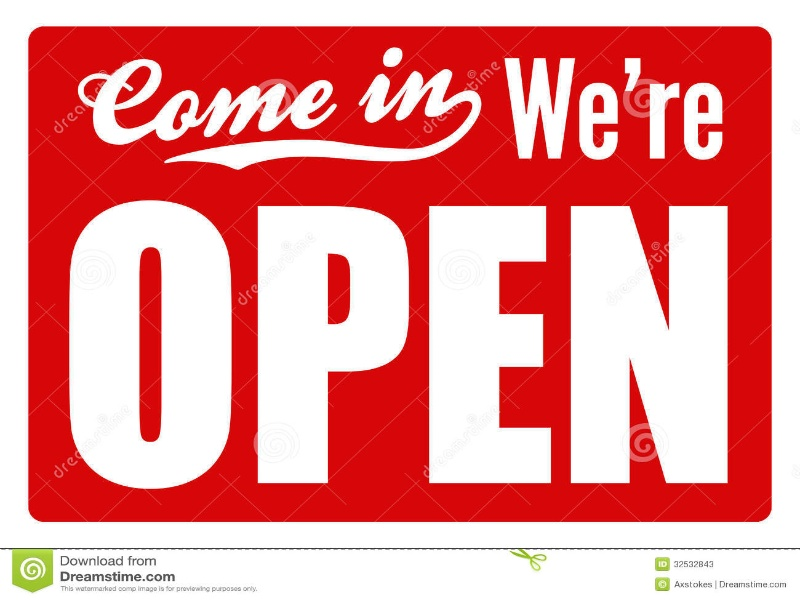letters: (64, 188, 240, 499), (557, 199, 740, 490), (253, 205, 417, 487), (425, 204, 553, 490), (505, 49, 574, 170), (89, 54, 165, 156), (197, 76, 289, 145), (572, 85, 624, 169), (358, 44, 409, 124), (395, 61, 455, 122), (292, 62, 340, 134), (646, 72, 683, 165), (694, 81, 730, 165), (150, 86, 199, 145)
